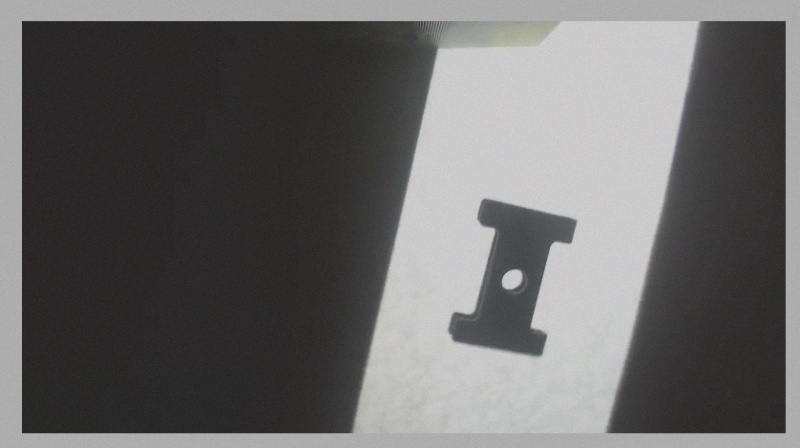O002: (446, 195, 580, 358)
